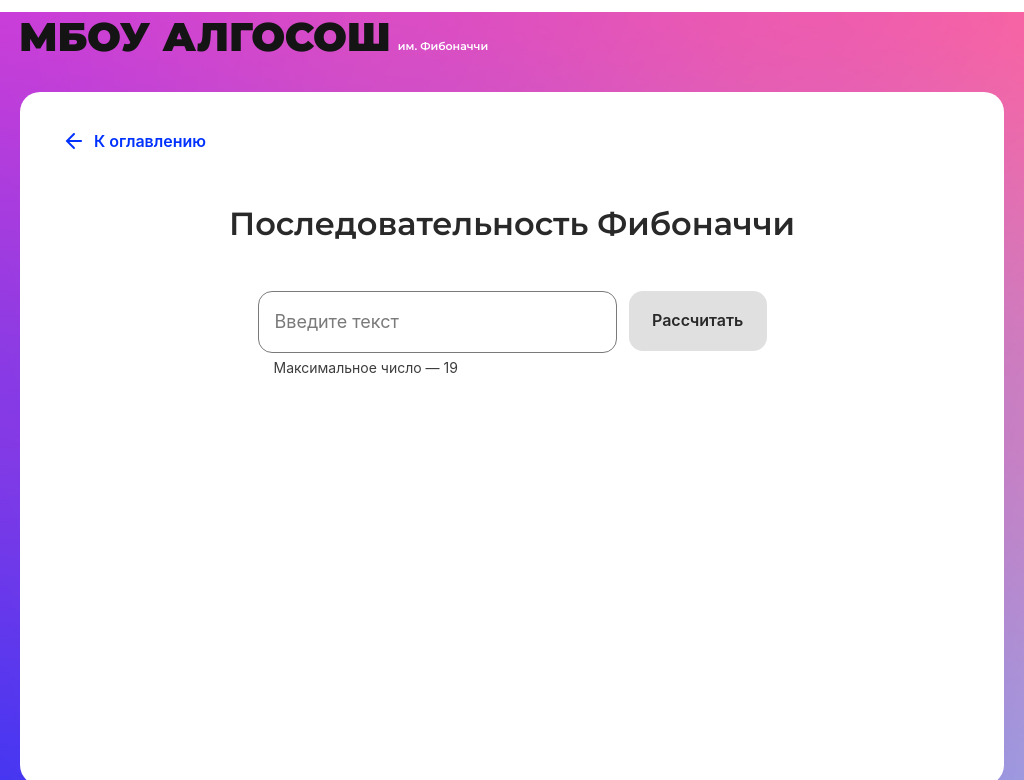
should work submit button and algorithm on the fibonacci-page › should be disabled button, when removed number
Type "7" into the number field with placeholder "Введите текст".
click(438, 322); type("7")  # box [258,291,617,353]
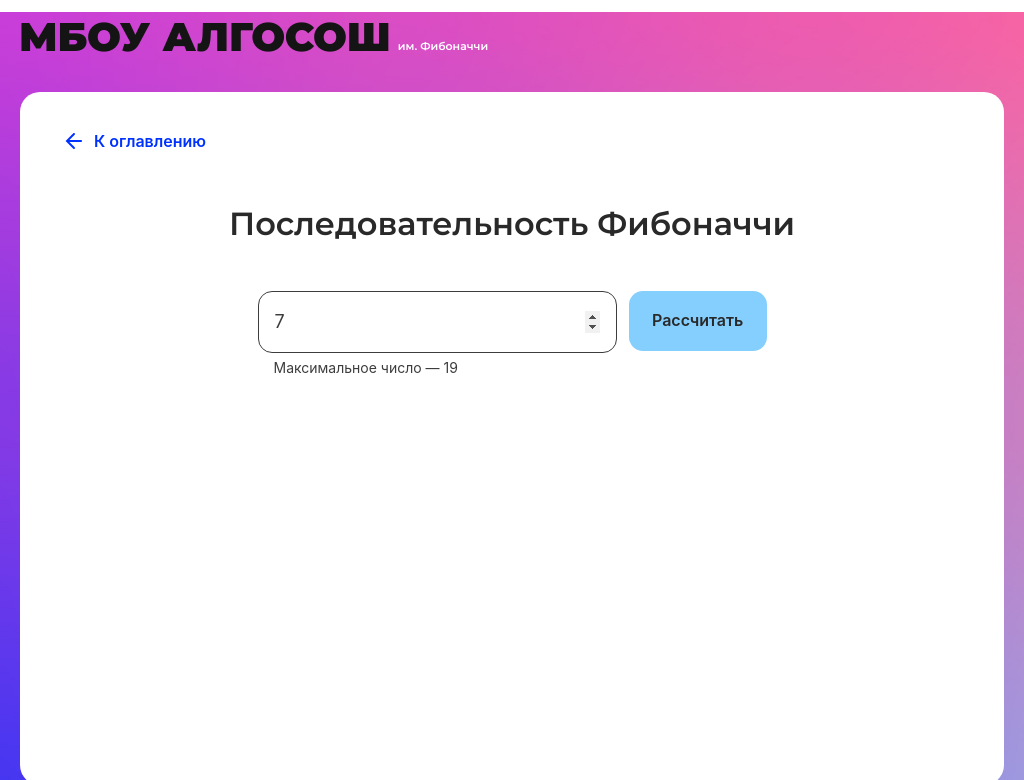
Check: the submit button is enabled
Clear the number field at (438, 322), box [258,291,617,353]
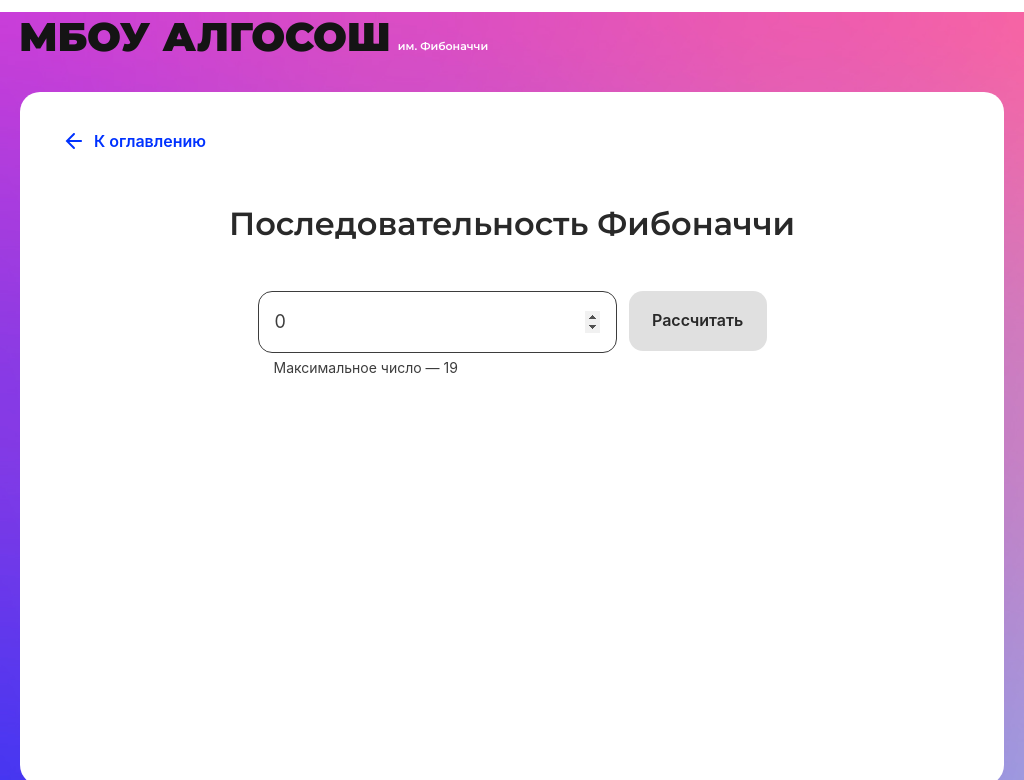
Check: the submit button is disabled, box [629,291,767,351]
